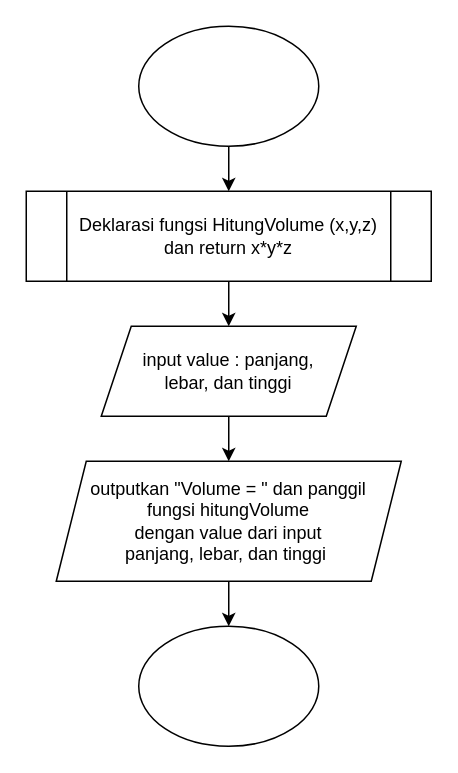
The diagram is 458 pixels wide and 773 high, and some of its shapes have lost their labels. Each missing label, with the centre of its shape:
"mulai" belongs at (x=228, y=85).
"selesai" belongs at (x=228, y=685).
